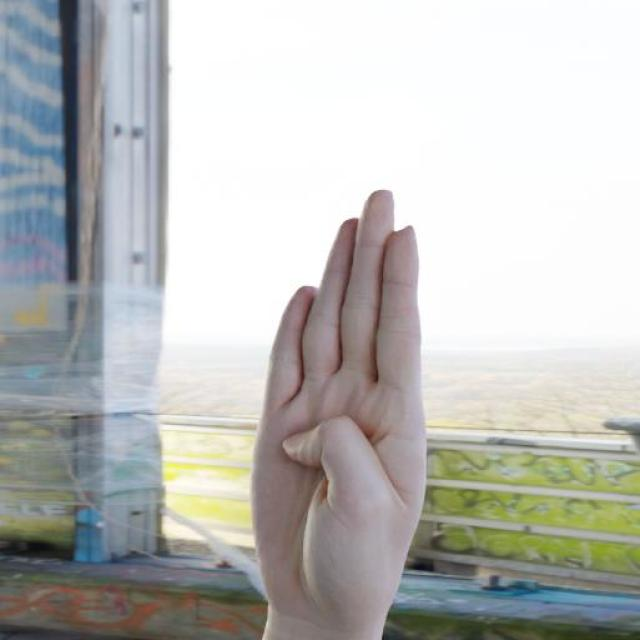B: (243, 180, 429, 630)
